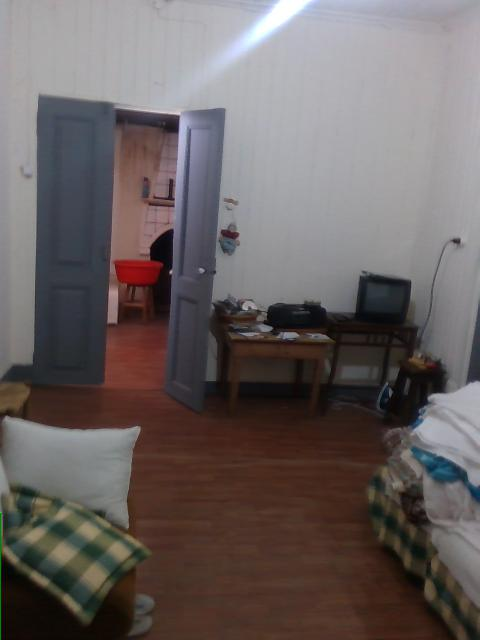door: (34, 93, 113, 386), (164, 108, 225, 408)
